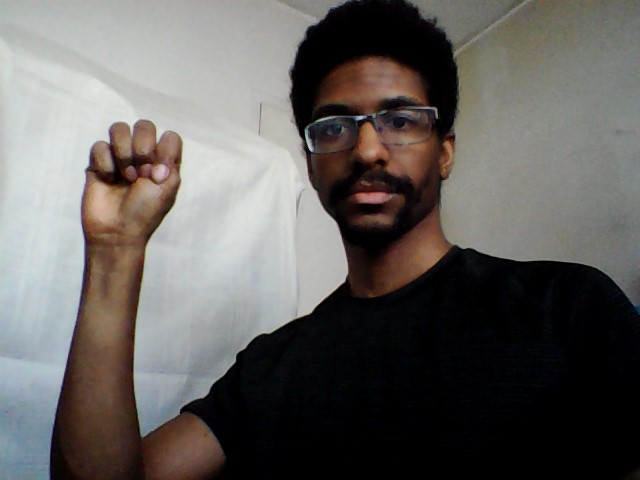m: (77, 116, 186, 250)
